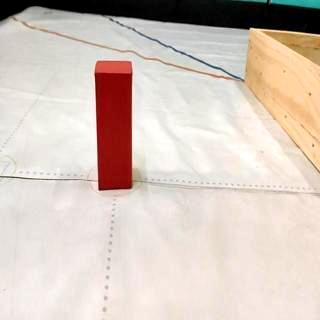redbox: (95, 58, 134, 190)
